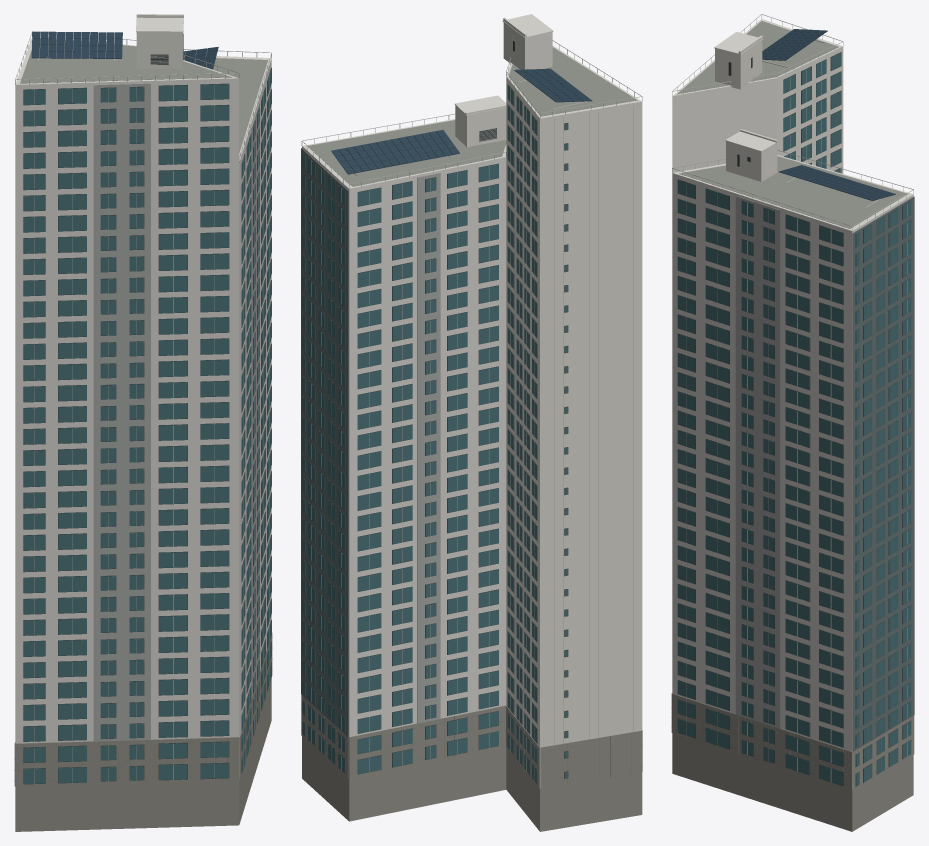
File: bespoke-maple-xi-213.glb
3 views of the same model, side by side, from view 1: azimuth 30°, elevation 25°; view 2: azimuth 150°, elevation 25°; view 3: azimuth 270°, elevation 25° (orthographic). The views are drawn at different scales.
Parts seen in each view (by area): view 1: 213_e0_window_glass, 213_wing_0_observed_massing, 213_e0_blank_wall_joints, 213_unverified_solid_ground_mass, 213_e0_individually_sized_reveals, 213_wing_0_roof_rail, 213_wing_0_service_roof, 213_individual_roof_panel_array_0; view 2: 213_wing_0_observed_massing, 213_e0_window_glass, 213_unverified_solid_ground_mass, 213_e0_individually_sized_reveals, 213_e3_paint_zone_graphite, 213_e0_blank_wall_joints, 213_wing_0_roof_rail, 213_wing_0_service_roof, 213_individual_roof_panel_array_0, 213_e0_stone_vertical_joints; view 3: 213_e0_window_glass, 213_wing_0_observed_massing, 213_e3_paint_zone_graphite, 213_e0_blank_wall_joints, 213_unverified_solid_ground_mass, 213_e0_individually_sized_reveals, 213_wing_0_service_roof, 213_wing_0_roof_rail, 213_individual_roof_panel_array_0.
Boxes of the visible parts, x1=… form: 213_e0_window_glass: x1=23, y1=68, x2=271, y2=784; 213_wing_0_observed_massing: x1=15, y1=14, x2=271, y2=778; 213_e0_blank_wall_joints: x1=93, y1=34, x2=259, y2=741; 213_unverified_solid_ground_mass: x1=14, y1=632, x2=272, y2=831; 213_e0_individually_sized_reveals: x1=23, y1=34, x2=271, y2=784; 213_wing_0_roof_rail: x1=15, y1=31, x2=271, y2=783; 213_wing_0_service_roof: x1=20, y1=38, x2=267, y2=152; 213_individual_roof_panel_array_0: x1=31, y1=31, x2=218, y2=69; 213_wing_0_observed_massing: x1=302, y1=14, x2=642, y2=788; 213_e0_window_glass: x1=302, y1=85, x2=567, y2=783; 213_unverified_solid_ground_mass: x1=301, y1=695, x2=642, y2=831; 213_e0_individually_sized_reveals: x1=302, y1=40, x2=568, y2=784; 213_e3_paint_zone_graphite: x1=301, y1=148, x2=348, y2=737; 213_e0_blank_wall_joints: x1=417, y1=39, x2=633, y2=744; 213_wing_0_roof_rail: x1=301, y1=40, x2=642, y2=780; 213_wing_0_service_roof: x1=308, y1=47, x2=637, y2=186; 213_individual_roof_panel_array_0: x1=331, y1=68, x2=592, y2=174; 213_e0_stone_vertical_joints: x1=301, y1=699, x2=642, y2=784; 213_e0_window_glass: x1=677, y1=52, x2=911, y2=786; 213_wing_0_observed_massing: x1=672, y1=19, x2=913, y2=790; 213_e3_paint_zone_graphite: x1=852, y1=196, x2=914, y2=751; 213_e0_blank_wall_joints: x1=728, y1=56, x2=780, y2=728; 213_unverified_solid_ground_mass: x1=671, y1=693, x2=914, y2=831; 213_e0_individually_sized_reveals: x1=677, y1=52, x2=911, y2=786; 213_wing_0_service_roof: x1=677, y1=21, x2=907, y2=228; 213_wing_0_roof_rail: x1=672, y1=14, x2=913, y2=781; 213_individual_roof_panel_array_0: x1=762, y1=29, x2=895, y2=200.
Bounding box in the file's own units: 46.9 × 115 × 35.39.
